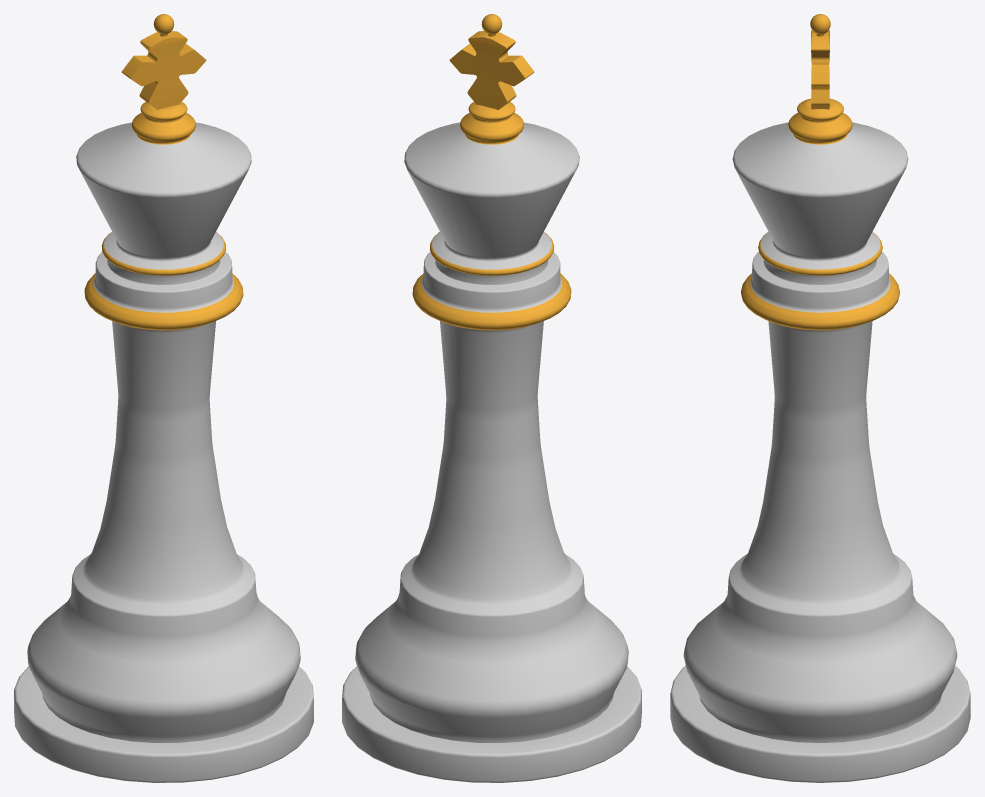
The model's file is gercek6_k_w.glb.
3 views of the same model, side by side, from view 1: azimuth 30°, elevation 25°; view 2: azimuth 150°, elevation 25°; view 3: azimuth 270°, elevation 25° (orthographic).
Visible parts, largest first — view 1: Circle.008; view 2: Circle.008; view 3: Circle.008.
Part boxes in pixels (x1=…): Circle.008: x1=14, y1=14, x2=313, y2=782; Circle.008: x1=342, y1=14, x2=641, y2=782; Circle.008: x1=670, y1=14, x2=970, y2=782.
Bounding box in the file's own units: 33.56 × 86.98 × 33.56.
